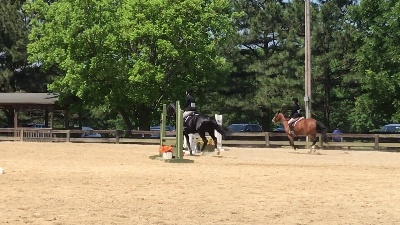jetta: (161, 101, 230, 155)
